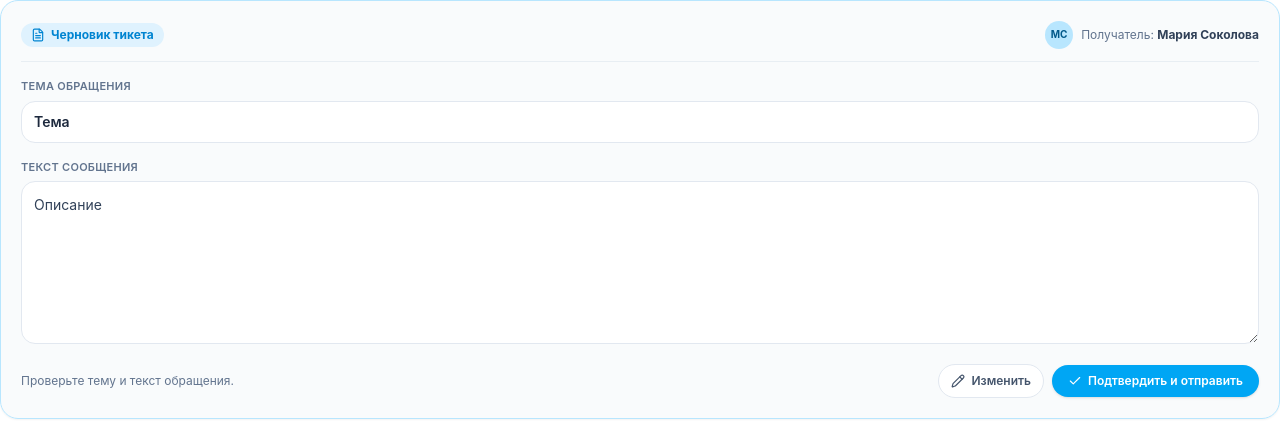
Scenario: explicit action confirmation › edits a ticket, locks repeated clicks and invalidates only after success
This screenshot has width=1280, height=436.
Expected: the text "Мария Соколова" is shown, [1157,27,1259,42]
Click the button "Изменить": point(991, 381) [938,364,1044,398]
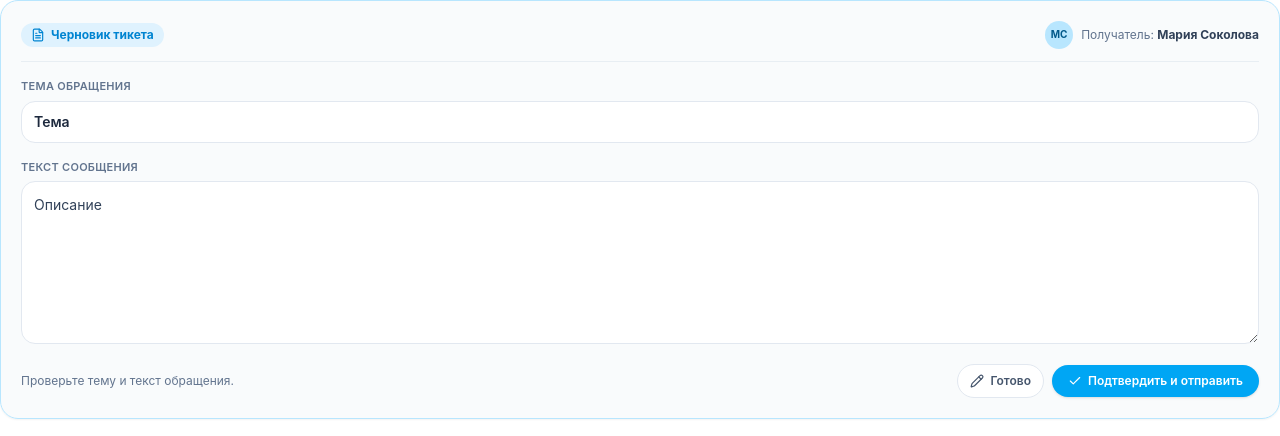
Replace the text in the field labelled "Тема обращения" with "Новая тема": point(640, 122) [21,100,1259,142]
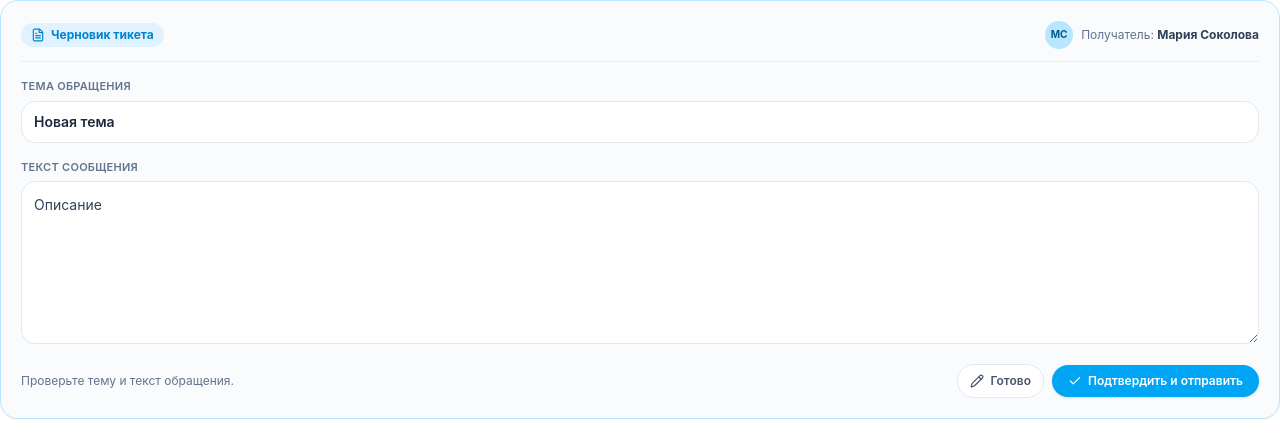
Click the button "Подтвердить и отправить": point(1156, 381) [1052,365,1259,397]
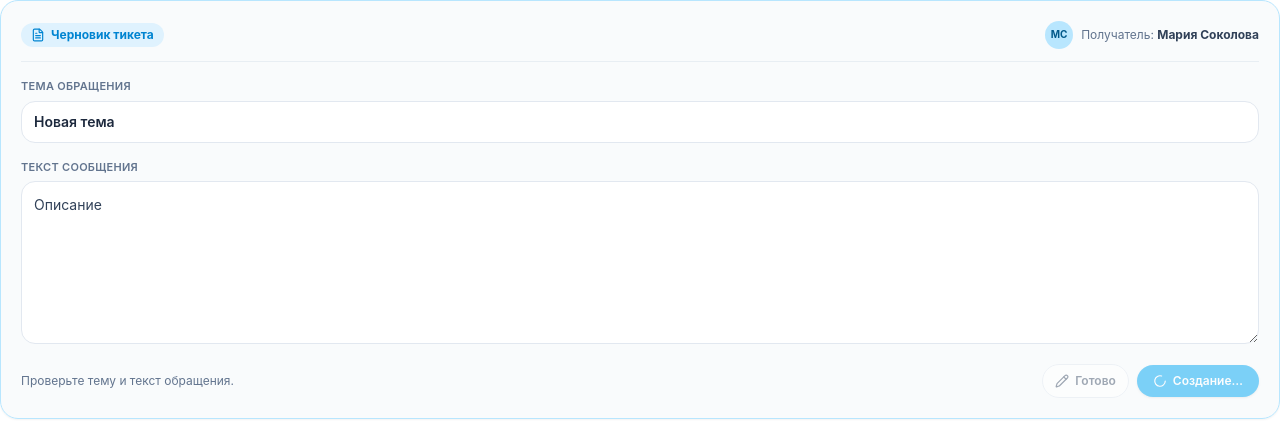
Click the button named "Подтвердить и отправить": point(1198, 381) [1137,365,1259,397]
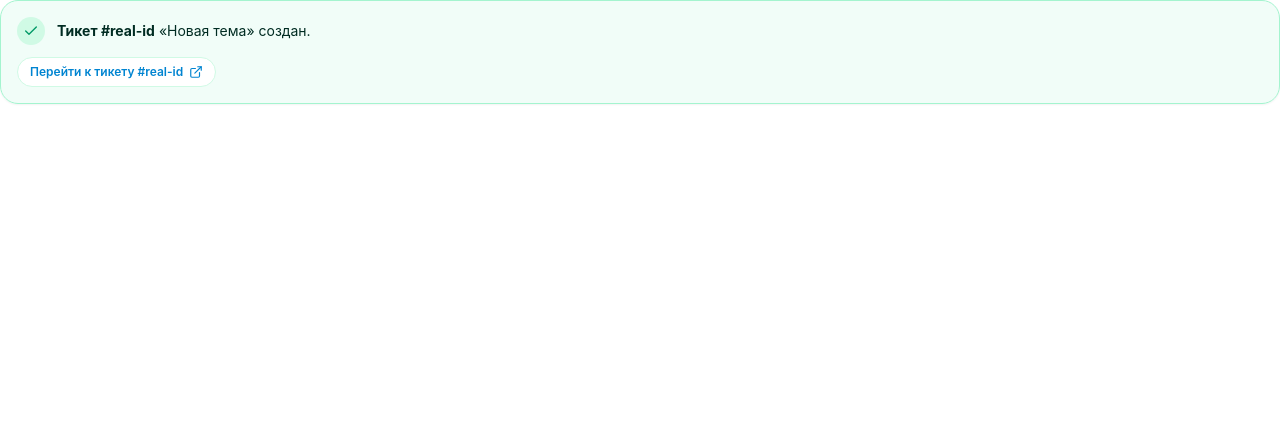
Expected: the message shows "Тикет #real-id «Новая тема» создан.", [0,0,1279,104]
Expected: the text "Черновик тикета" is gone
